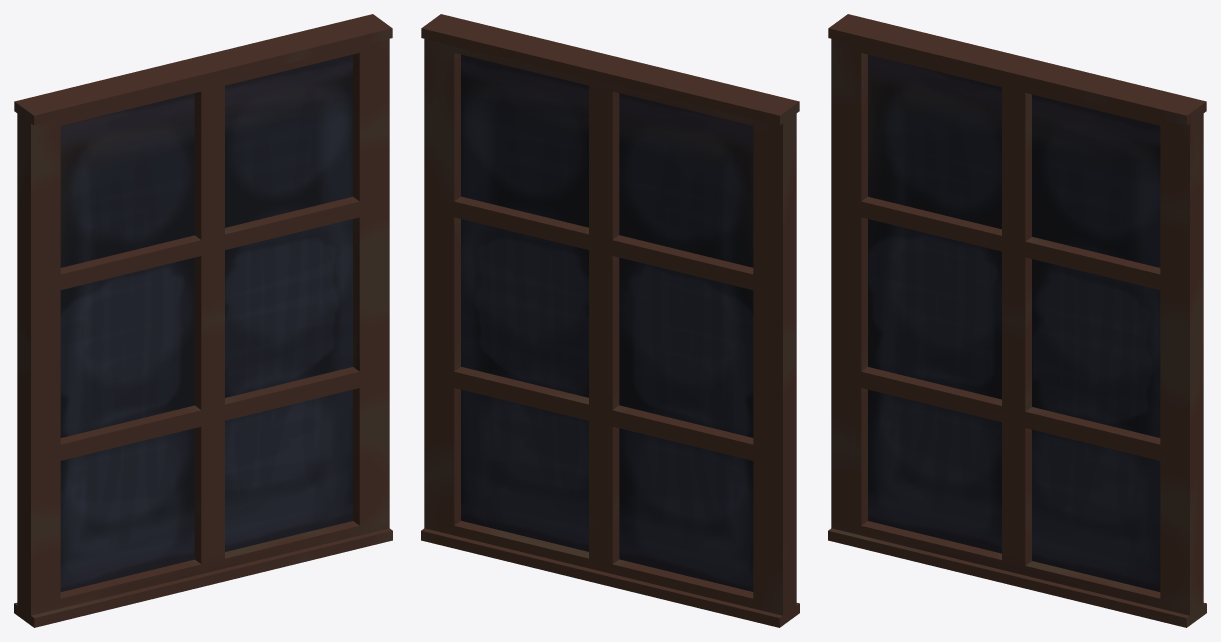
The model's file is OfficeWindow.fbx.
The picture shows the model from 3 angles, left to right: view 1: azimuth 30°, elevation 25°; view 2: azimuth 150°, elevation 25°; view 3: azimuth 330°, elevation 25°; orthographic projection.
Visible parts, largest first — view 1: Cube.013; view 2: Cube.013; view 3: Cube.013.
Boxes of the visible parts, box(x1,y1,x2,y2) form: Cube.013: box(14, 14, 392, 627); Cube.013: box(421, 14, 799, 627); Cube.013: box(828, 14, 1206, 627).
Bounding box in the file's own units: 335 × 457 × 32.77.
